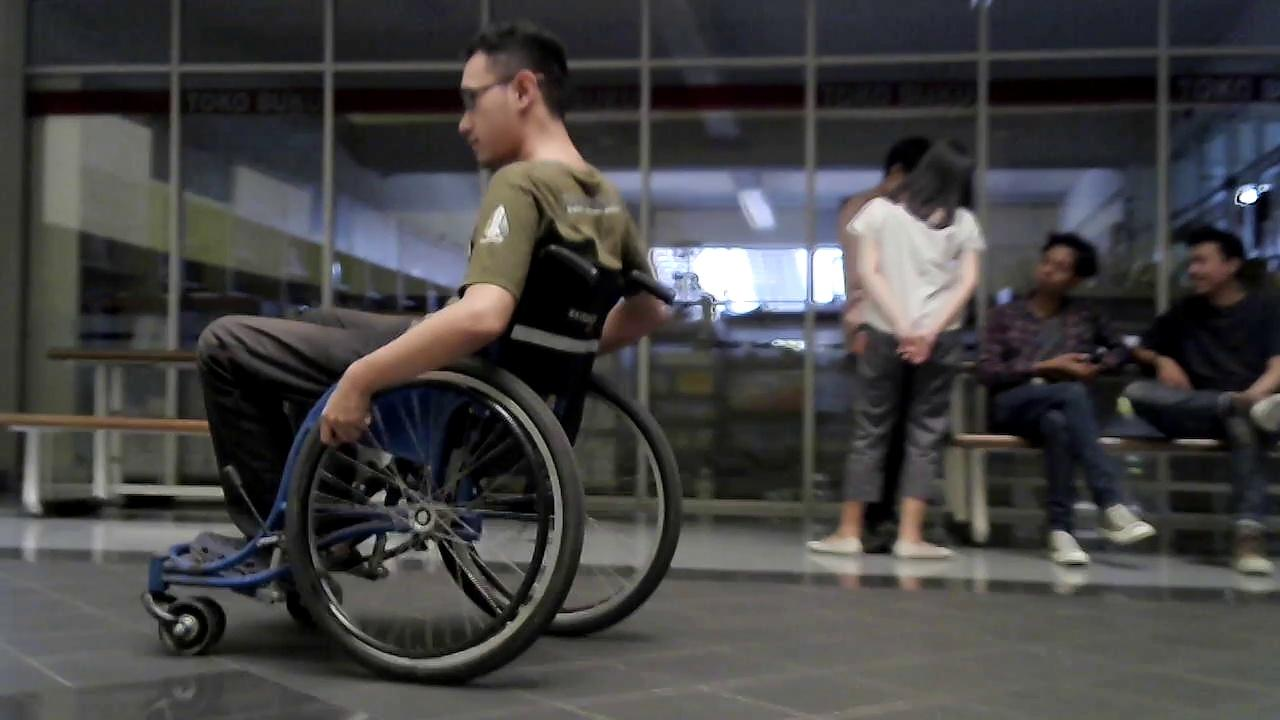person: (145, 27, 679, 607), (805, 135, 988, 570), (979, 233, 1160, 576), (1122, 223, 1280, 582)
wheelchair: (103, 229, 707, 705)
